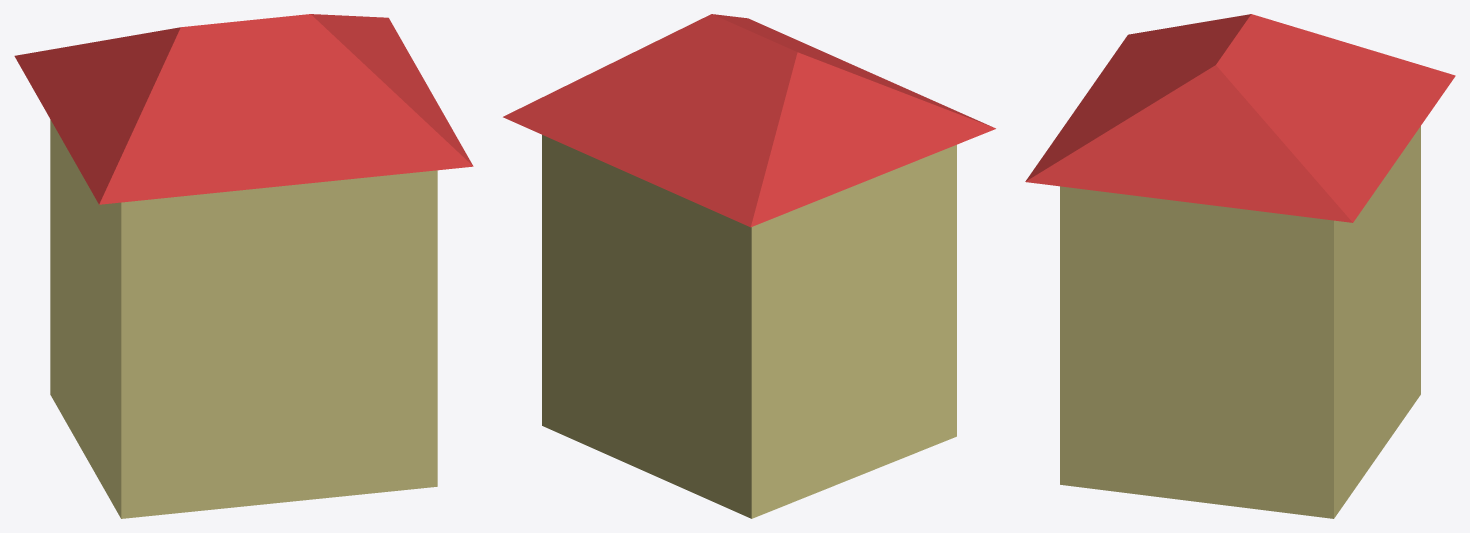
The picture shows the model from 3 angles, left to right: view 1: azimuth 30°, elevation 25°; view 2: azimuth 150°, elevation 25°; view 3: azimuth 270°, elevation 25°; orthographic projection. The views are drawn at different scales.
Visible parts, largest first — view 1: group_5, group_3, group_4; view 2: group_5, group_3, group_4; view 3: group_5, group_3, group_4.
Boxes of the visible parts, <box> form: group_5: <box>50,119,437,518</box>; group_3: <box>14,14,473,204</box>; group_4: <box>58,17,472,204</box>; group_5: <box>542,135,956,518</box>; group_3: <box>507,14,995,226</box>; group_4: <box>503,17,991,227</box>; group_5: <box>1060,126,1420,518</box>; group_3: <box>1025,14,1420,222</box>; group_4: <box>1026,33,1455,222</box>.
Bounding box in the file's own units: 11.86 × 11.47 × 11.72.
